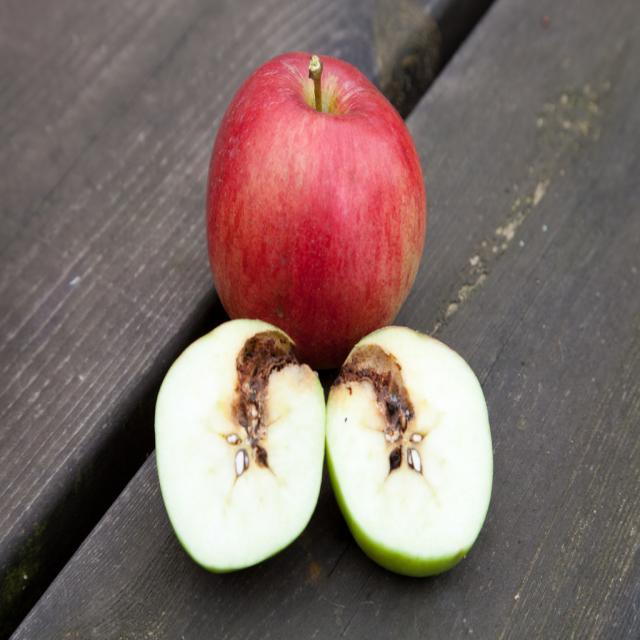Apple pie: (207, 46, 427, 380), (156, 315, 326, 577), (323, 323, 496, 575)
